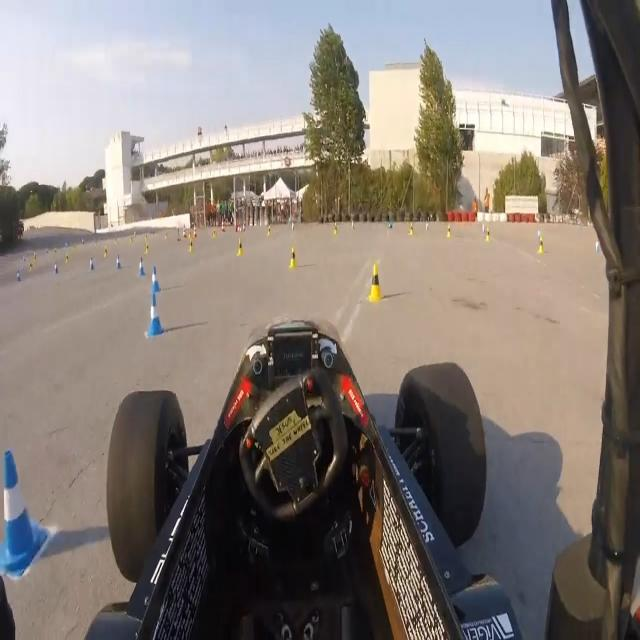blue_cone: (0, 447, 49, 582), (147, 292, 166, 340), (148, 262, 166, 294), (138, 256, 146, 276), (115, 250, 122, 272), (594, 236, 600, 256), (89, 253, 95, 272), (53, 260, 59, 276), (16, 270, 21, 283), (482, 221, 485, 234), (538, 226, 540, 239)
large_orange_cone: (193, 222, 197, 240), (182, 224, 186, 239), (221, 219, 225, 233)
yellow_cone: (368, 262, 385, 304), (288, 247, 298, 270), (237, 237, 246, 259), (484, 226, 492, 242), (538, 237, 544, 256), (447, 224, 452, 240), (189, 237, 194, 253), (333, 222, 339, 235), (409, 222, 414, 237), (29, 260, 34, 273), (211, 230, 216, 240), (144, 234, 149, 244), (267, 225, 271, 237), (104, 246, 108, 258), (65, 253, 69, 265), (146, 243, 149, 254), (214, 228, 217, 238)
